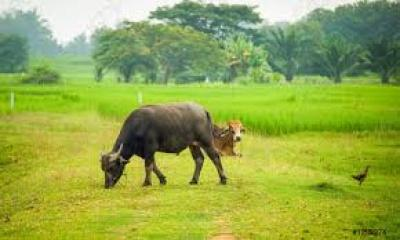buffalo: (101, 102, 233, 188)
